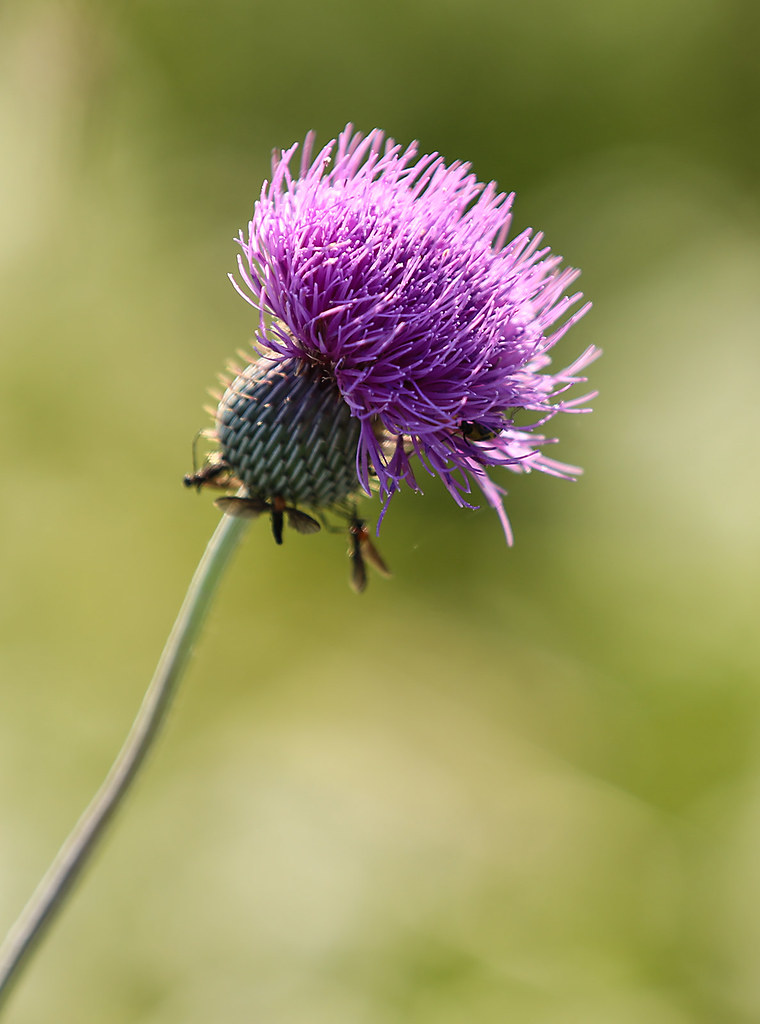thistle: (181, 119, 605, 527)
